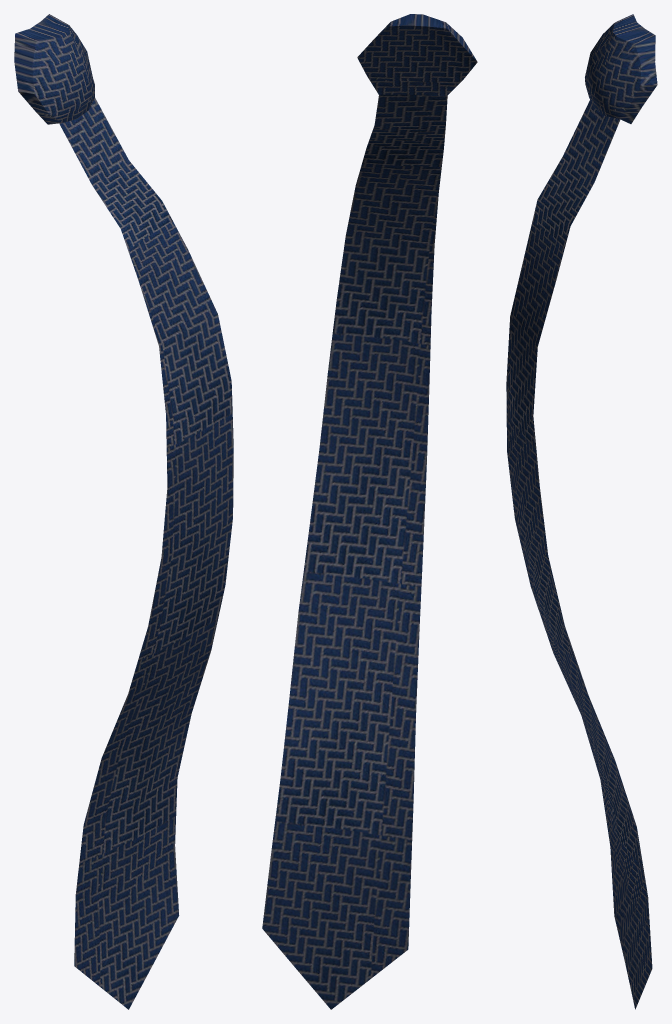
File: Pose-5_SuitTie-3.fbx
3 renders of one model, left to right at view 1: azimuth 30°, elevation 25°; view 2: azimuth 150°, elevation 25°; view 3: azimuth 270°, elevation 25°, orthographic. The views are drawn at different scales.
Parts seen in each view (by area): view 1: Pose-5_SuitTie-3; view 2: Pose-5_SuitTie-3; view 3: Pose-5_SuitTie-3.
Boxes of the visible parts, x1,y1,x2,y2 form: Pose-5_SuitTie-3: (14,14,233,1009); Pose-5_SuitTie-3: (262,14,477,1009); Pose-5_SuitTie-3: (506,14,657,1009).
Bounding box in the file's own units: 10.11 × 51.67 × 7.5.
